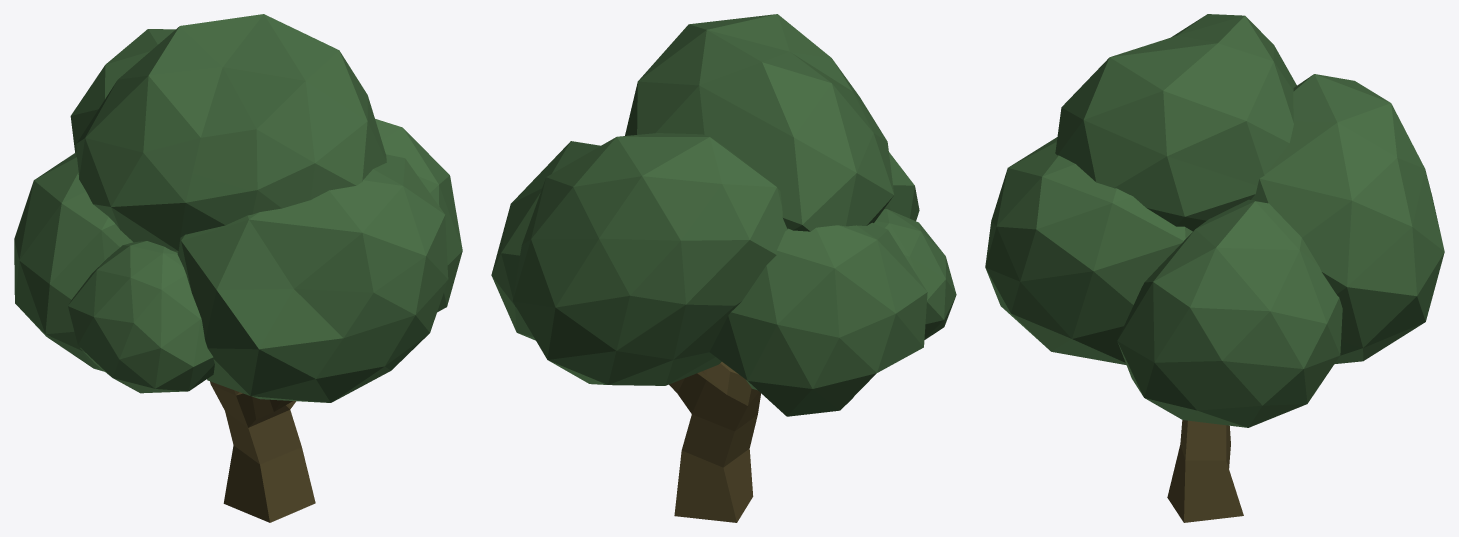
The model's file is tree1.fbx.
3 views of the same model, side by side, from view 1: azimuth 30°, elevation 25°; view 2: azimuth 150°, elevation 25°; view 3: azimuth 270°, elevation 25° (orthographic). The views are drawn at different scales.
Visible parts, largest first — view 1: OakTree3; view 2: OakTree3; view 3: OakTree3.
Part boxes in pixels (x1,y1,x2,y2): OakTree3: (14,14,462,522); OakTree3: (491,14,956,522); OakTree3: (985,14,1444,522).
Size of the model in its own units: 1382 by 1584 by 1423.
